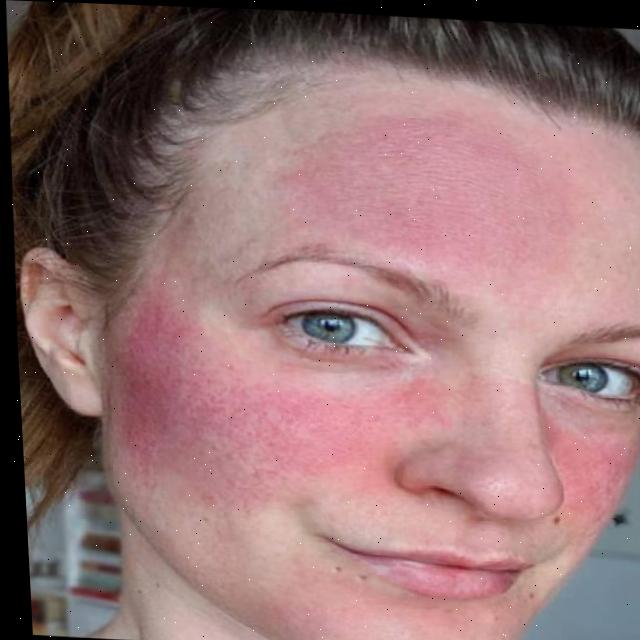Rosacea: (81, 270, 477, 548), (263, 89, 598, 288), (519, 392, 640, 572)
